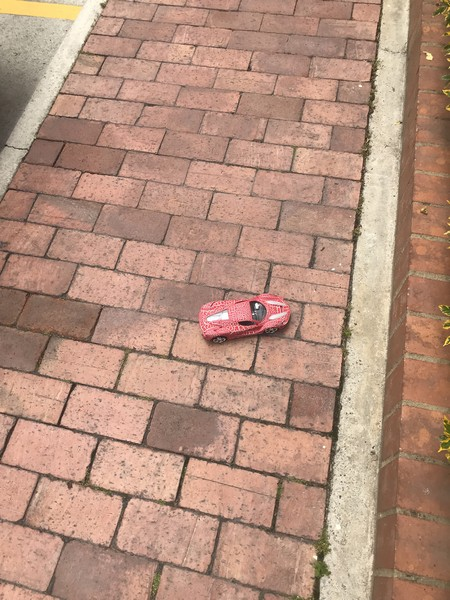RC: (198, 291, 293, 343)
